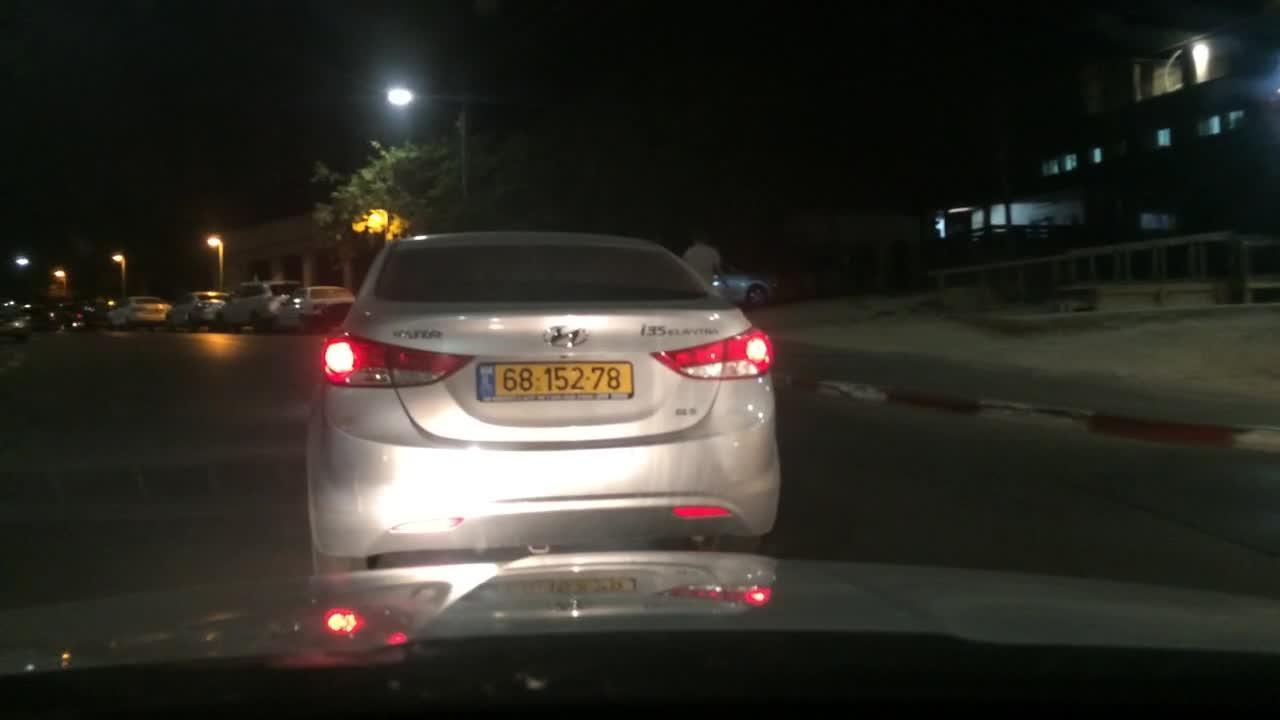Hyundai: (533, 315, 600, 358)
